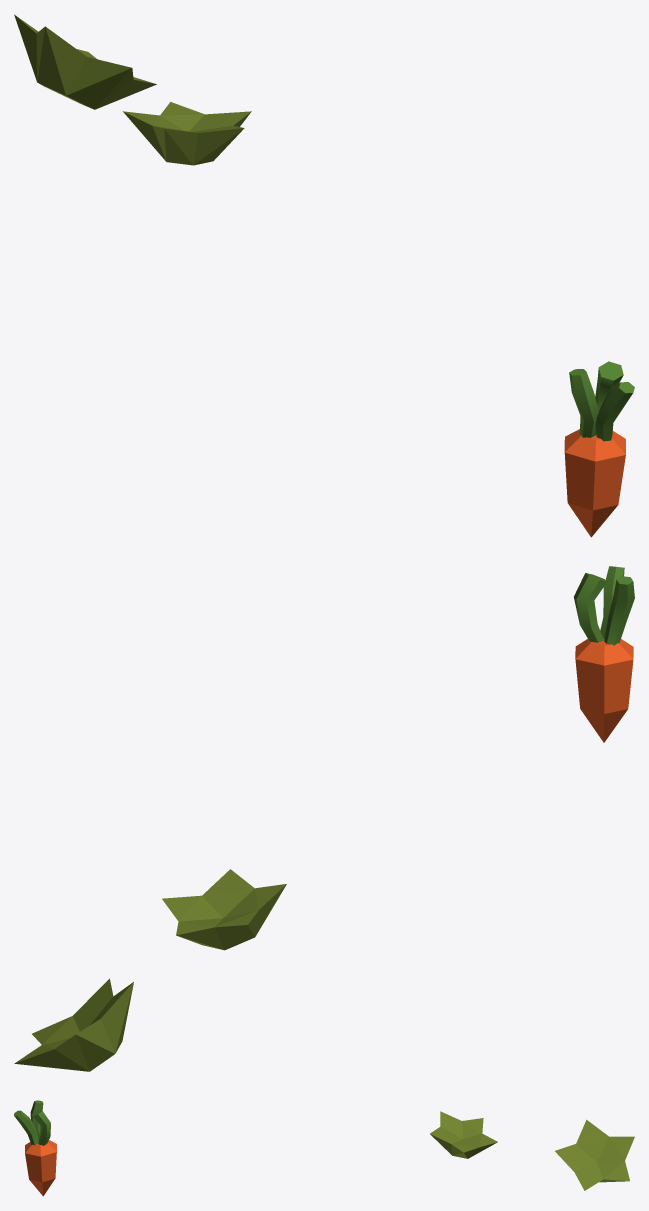
3 views of the same model, one above another, from view 1: azimuth 30°, elevation 25°; view 2: azimuth 150°, elevation 25°; view 3: azimuth 270°, elevation 25° (orthographic). The views are drawn at different scales.
Parts seen in each view (by area): view 1: Box15939_green2_0, Line1462_red2_0, Box15940_green2_0, Line1462_green_0; view 2: Box15940_green2_0, Box15939_green2_0, Line1462_red2_0, Line1462_green_0; view 3: Box15939_green2_0, Box15940_green2_0, Line1462_red2_0, Line1462_green_0.
Part boxes in pixels (x1,y1,x2,y2): Box15939_green2_0: (14, 14, 156, 109); Line1462_red2_0: (564, 429, 625, 537); Box15940_green2_0: (123, 102, 251, 165); Line1462_green_0: (569, 361, 634, 441); Box15940_green2_0: (162, 869, 286, 950); Box15939_green2_0: (14, 978, 133, 1071); Line1462_red2_0: (575, 638, 633, 742); Line1462_green_0: (574, 566, 634, 645); Box15939_green2_0: (555, 1119, 634, 1190); Box15940_green2_0: (430, 1111, 497, 1158); Line1462_red2_0: (25, 1140, 56, 1196); Line1462_green_0: (14, 1100, 50, 1145).
Bounding box in the file's own units: 133 × 168 × 1043.
